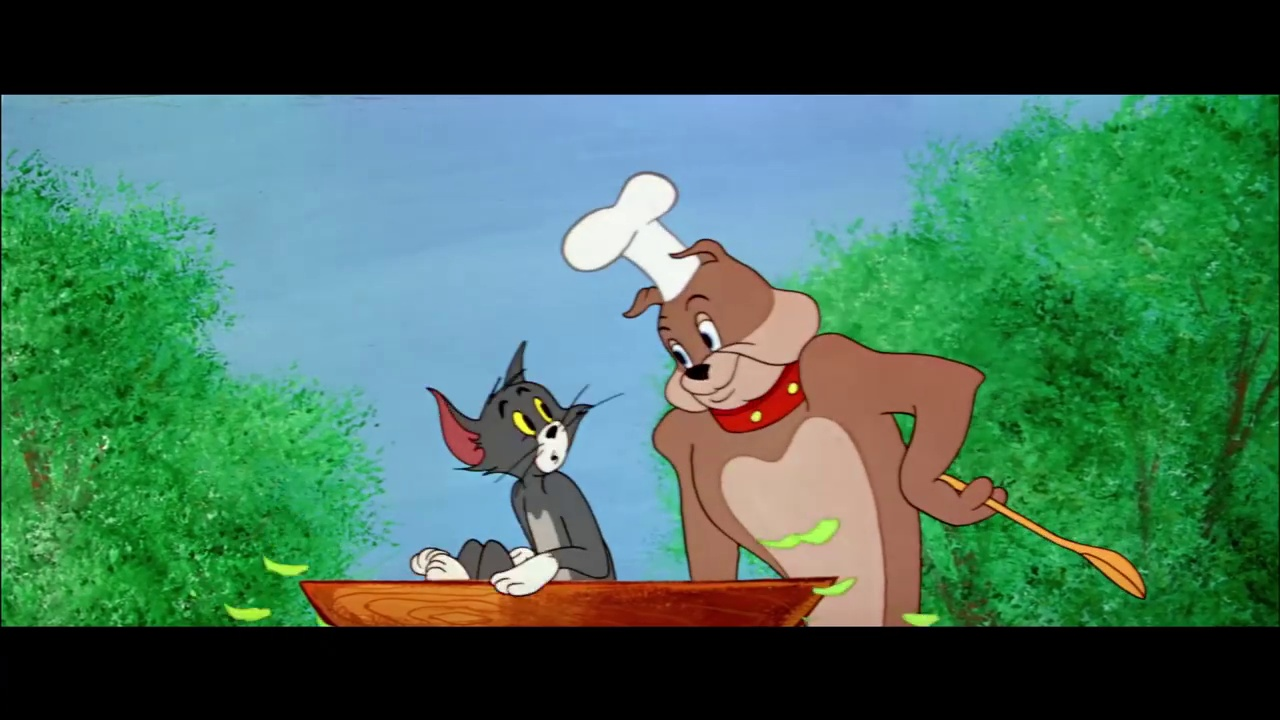spike: (618, 244, 832, 434)
tom: (424, 340, 610, 488)
